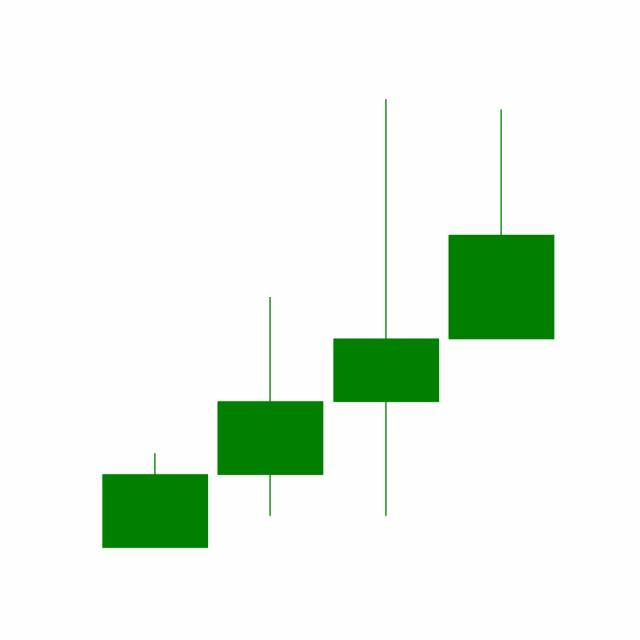Spinning Top: (329, 95, 445, 522)
